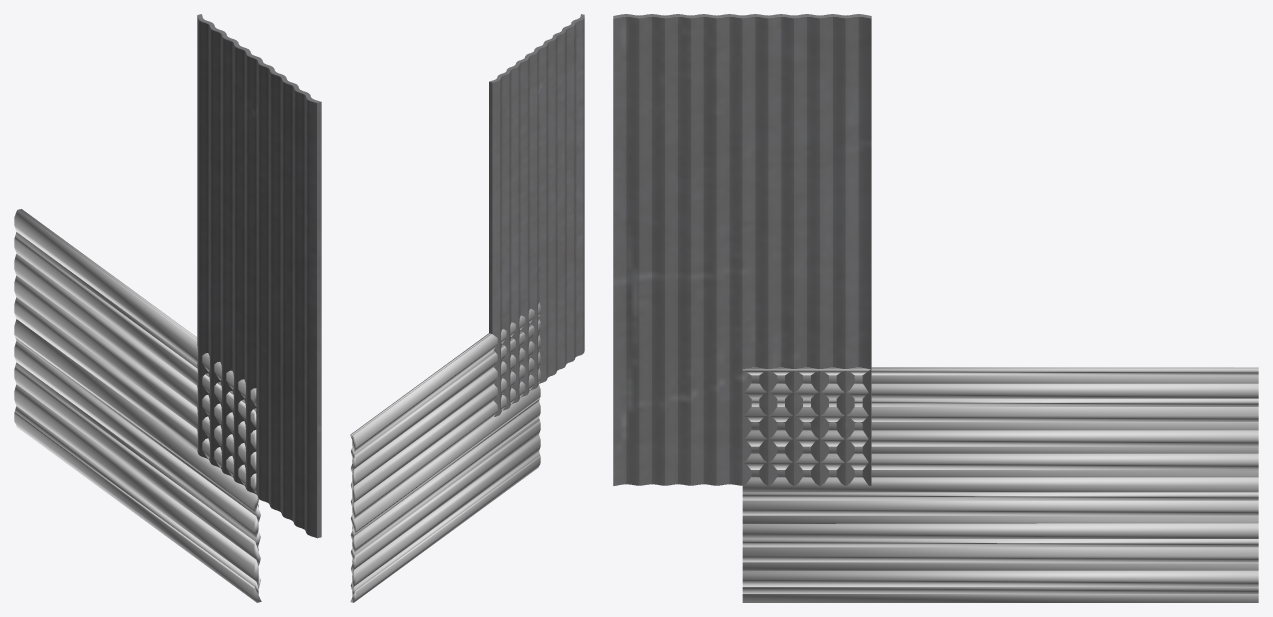
File: SM_MetalPlate_Large.fbx
3 renders of one model, left to right at view 1: azimuth 30°, elevation 25°; view 2: azimuth 150°, elevation 25°; view 3: azimuth 270°, elevation 25°, orthographic. The views are drawn at different scales.
Visible parts, largest first — view 1: SM_MetalPlate_Large, SM_MetalPlate_Large_ConvexHulls; view 2: SM_MetalPlate_Large, SM_MetalPlate_Large_ConvexHulls; view 3: SM_MetalPlate_Large, SM_MetalPlate_Large_ConvexHulls.
Part boxes in pixels (<box>): SM_MetalPlate_Large: <box>197,14,321,538</box>; SM_MetalPlate_Large_ConvexHulls: <box>14,209,261,602</box>; SM_MetalPlate_Large: <box>489,14,584,416</box>; SM_MetalPlate_Large_ConvexHulls: <box>350,302,540,602</box>; SM_MetalPlate_Large: <box>613,14,871,485</box>; SM_MetalPlate_Large_ConvexHulls: <box>742,367,1258,602</box>.
Size of the model in its own units: 0.061 by 3.75 by 3.75.
